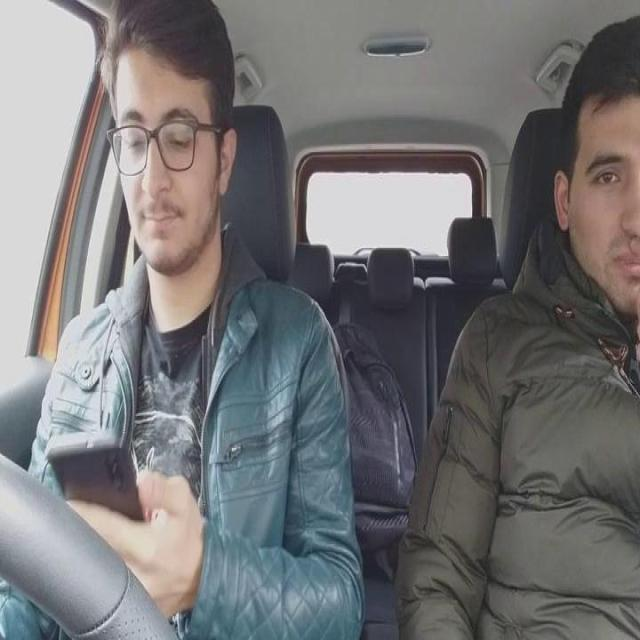phone: (44, 428, 146, 538)
